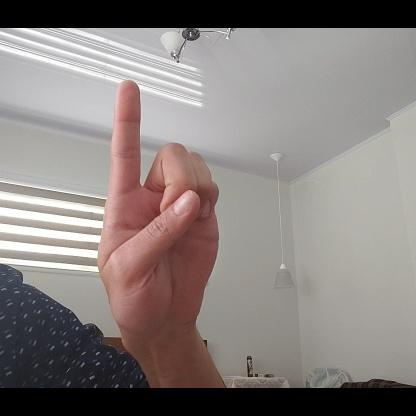D: (95, 76, 220, 339)
